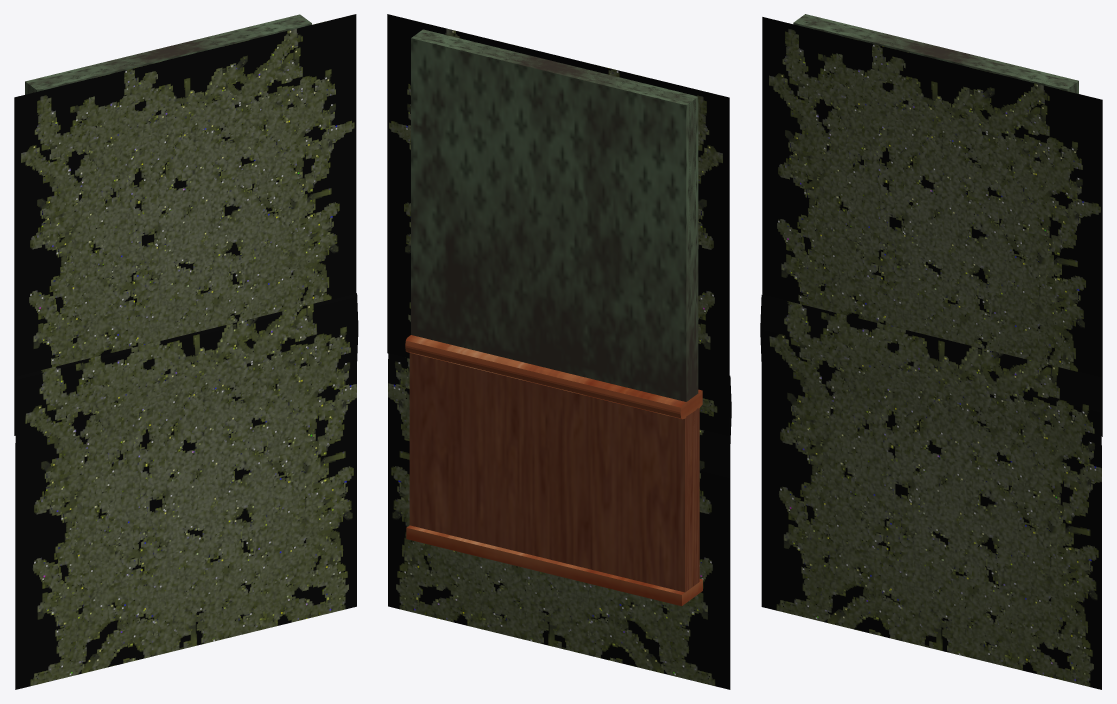
Rendered from Quemable_Casa.obj.
3 views of the same model, side by side, from view 1: azimuth 30°, elevation 25°; view 2: azimuth 150°, elevation 25°; view 3: azimuth 330°, elevation 25° (orthographic).
Parts seen in each view (by area): view 1: Plane.004, Quemable_Casa_Plane.003, Cube_Cube.002; view 2: Cube_Cube.002, Plane.004, Quemable_Casa_Plane.003; view 3: Plane.004, Quemable_Casa_Plane.003, Cube_Cube.002.
Part boxes in pixels (<box>): Plane.004: <box>15,293,358,689</box>; Quemable_Casa_Plane.003: <box>14,14,356,435</box>; Cube_Cube.002: <box>25,14,311,94</box>; Cube_Cube.002: <box>405,29,702,606</box>; Plane.004: <box>388,353,731,689</box>; Quemable_Casa_Plane.003: <box>387,14,729,436</box>; Plane.004: <box>760,295,1101,689</box>; Quemable_Casa_Plane.003: <box>762,17,1102,436</box>; Cube_Cube.002: <box>793,14,1078,93</box>.
Size of the model in its own units: 2 by 3.31 by 0.2455.
4 materials, 4 textured.
